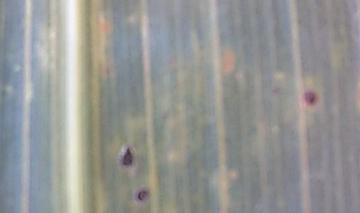tarspot: (121, 147, 134, 167), (303, 90, 318, 106), (136, 189, 150, 202)
